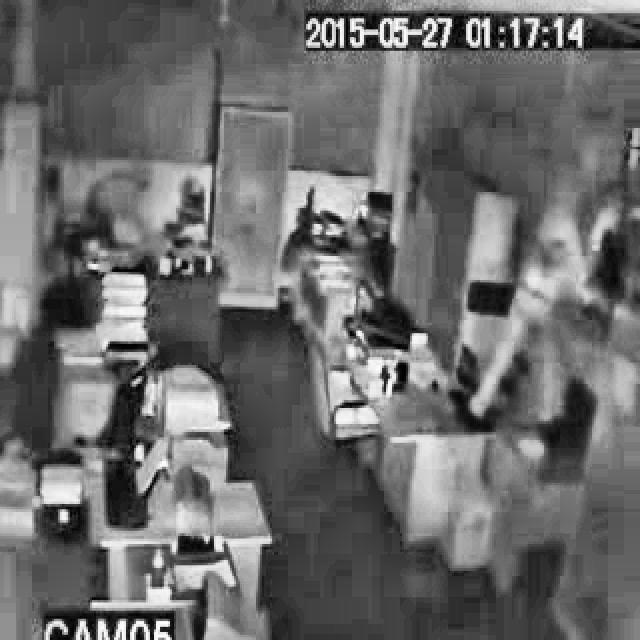burglary: (462, 178, 640, 443)
